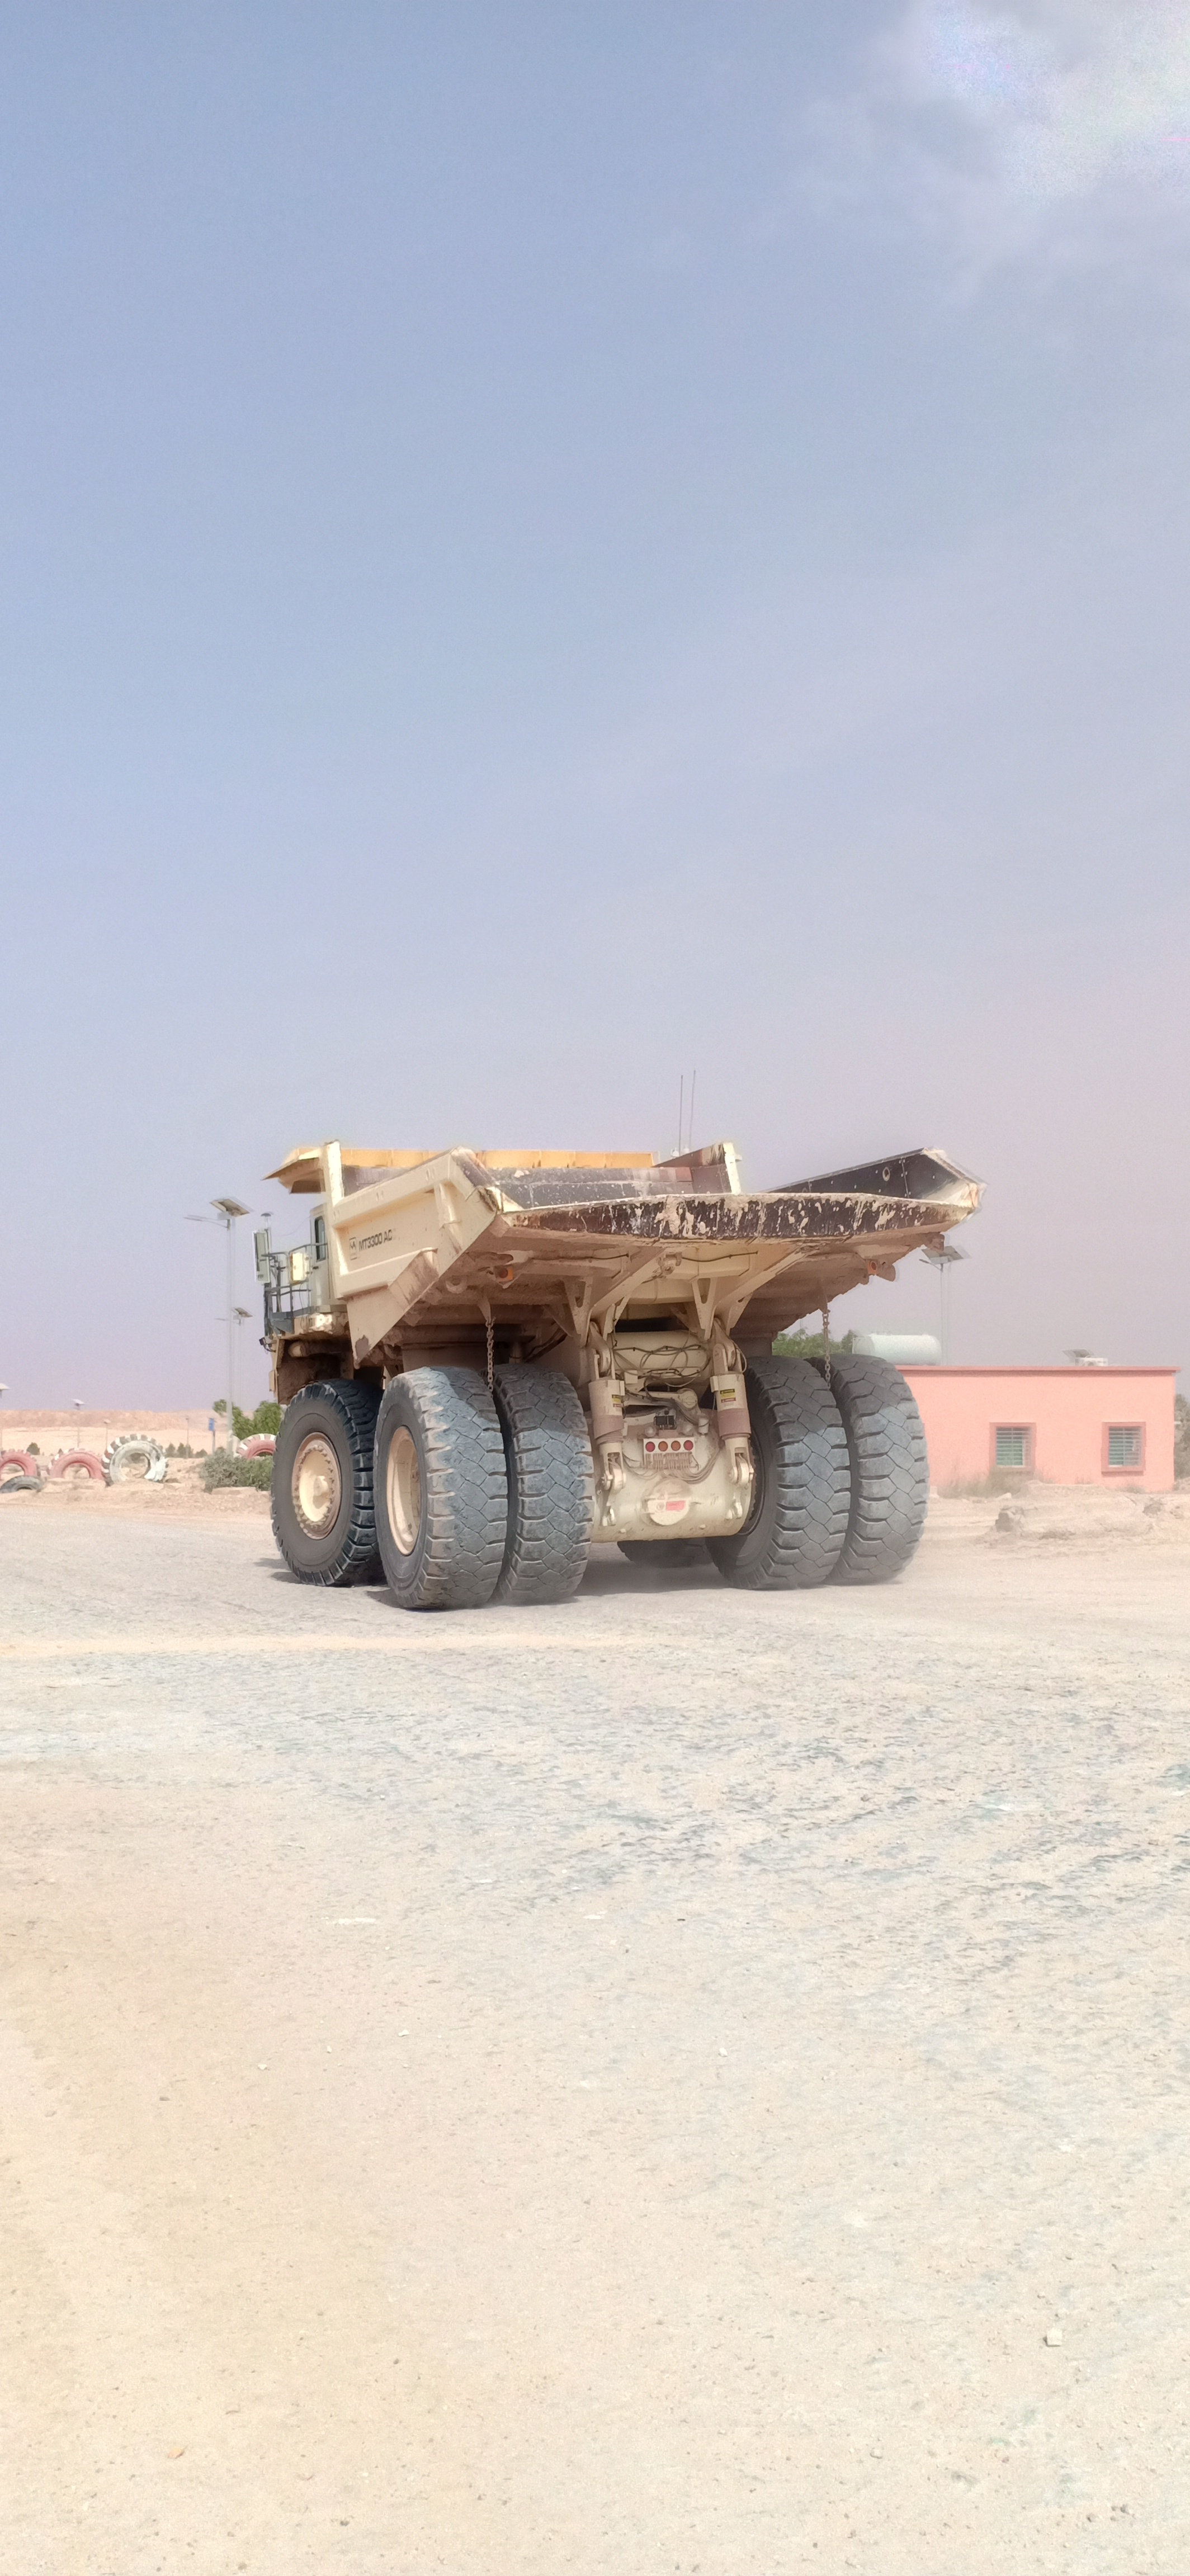camion: (224, 1122, 981, 1633)
